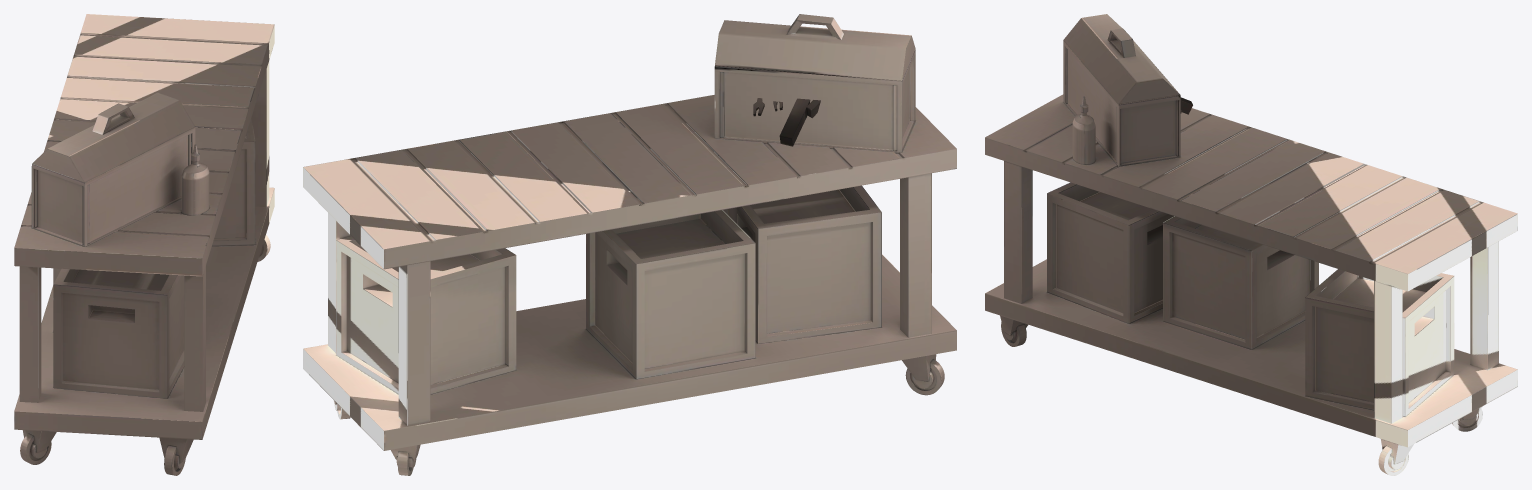
File: workbench.glb
3 renders of one model, left to right at view 1: azimuth 30°, elevation 25°; view 2: azimuth 150°, elevation 25°; view 3: azimuth 270°, elevation 25°, orthographic. The views are drawn at different scales.
Visible parts, largest first — view 1: workbench; view 2: workbench; view 3: workbench.
Boxes of the visible parts, x1=… form: workbench: x1=14, y1=14, x2=274, y2=475; workbench: x1=303, y1=14, x2=956, y2=475; workbench: x1=985, y1=14, x2=1517, y2=475.
Bounding box in the file's own units: 14.18 × 10.32 × 16.16.
1 material, 1 textured.
